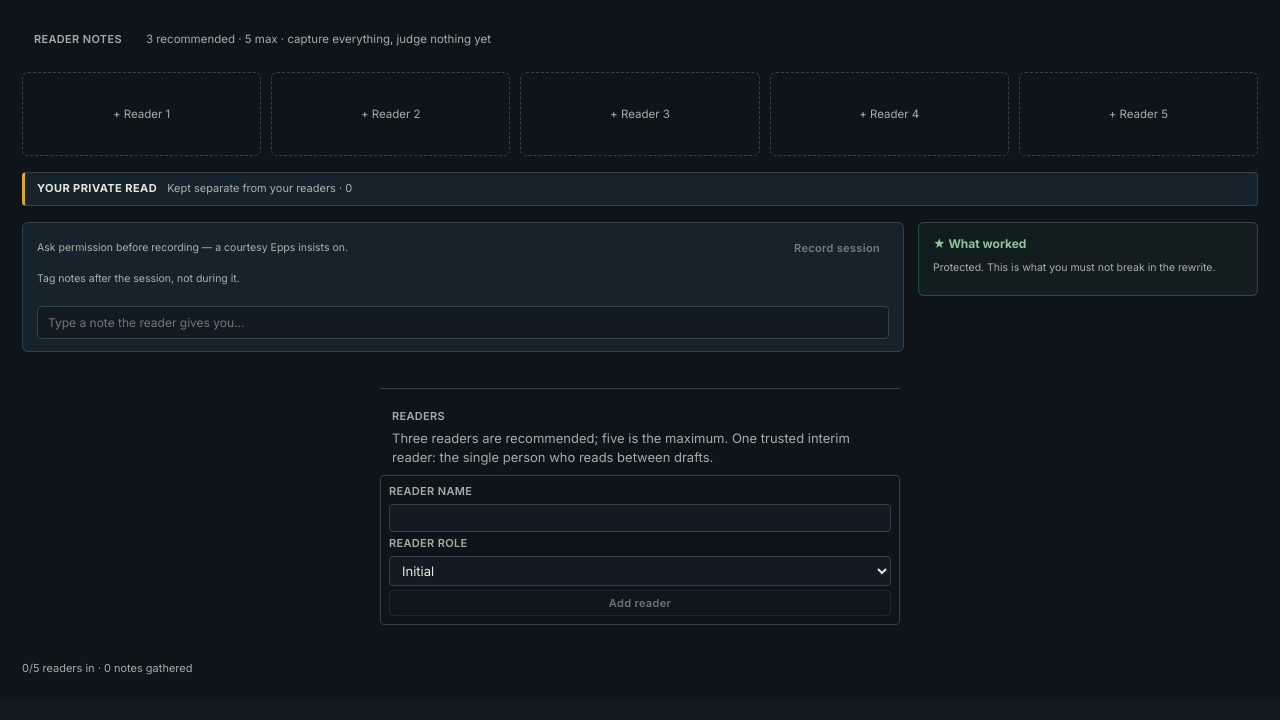
Scenario: NotesIntake › adds a reader through the inline slot input
The image size is (1280, 720).
Click the button "+ Reader 1" at (142, 114), box [22, 72, 261, 156]
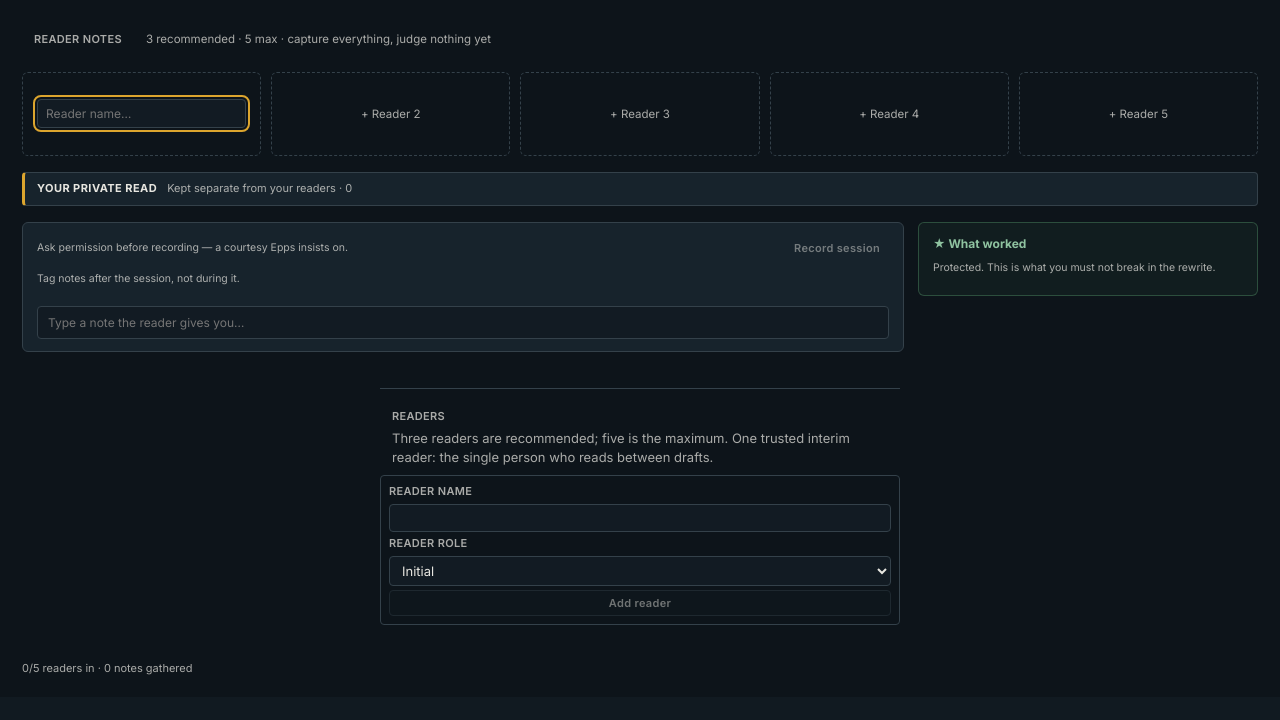
Type "Rodrigo" into the field with placeholder "Reader name…" at (142, 114), box [37, 99, 246, 128]
Then press Enter
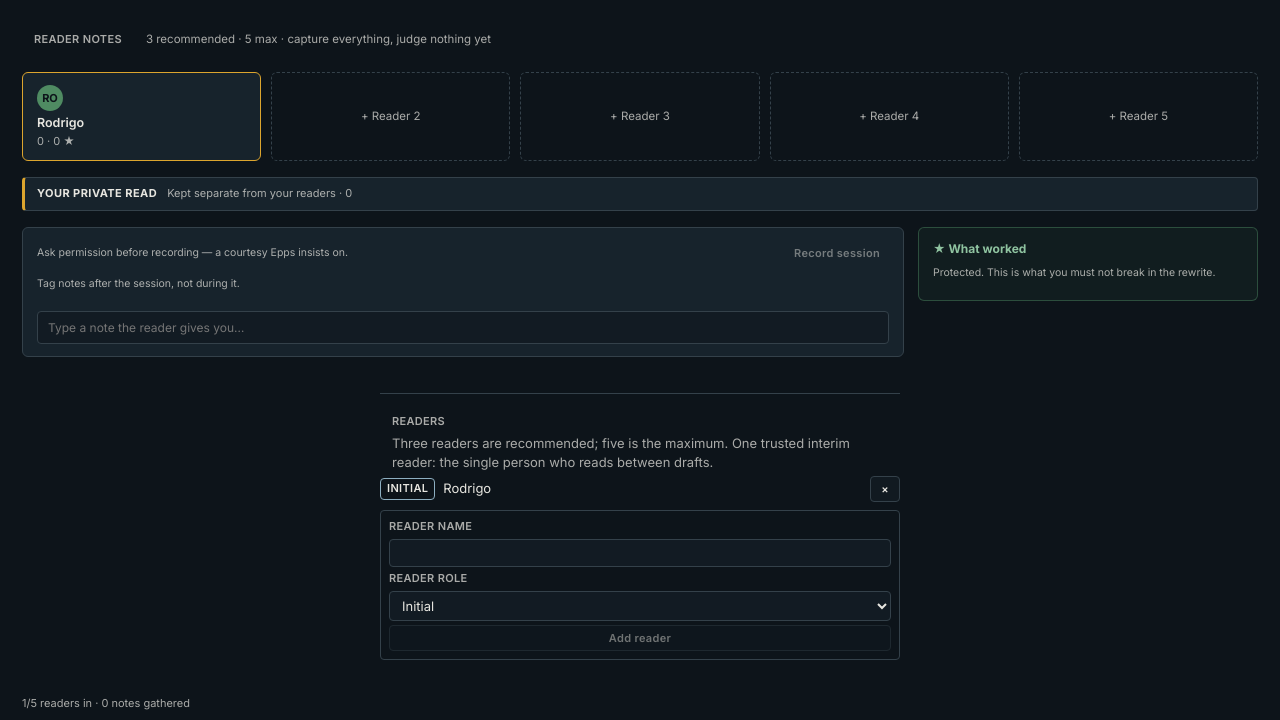
Result: the 1st text "Rodrigo" is shown at [37, 115, 84, 130]
